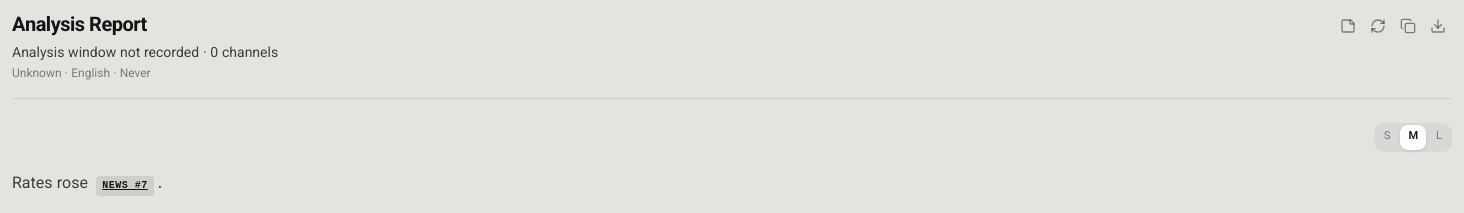
Test case: a Citation in the report › a Post in neither says it was not found
The image size is (1464, 213).
Hover over the link "news #7" at (125, 186), box [96,176,154,196]
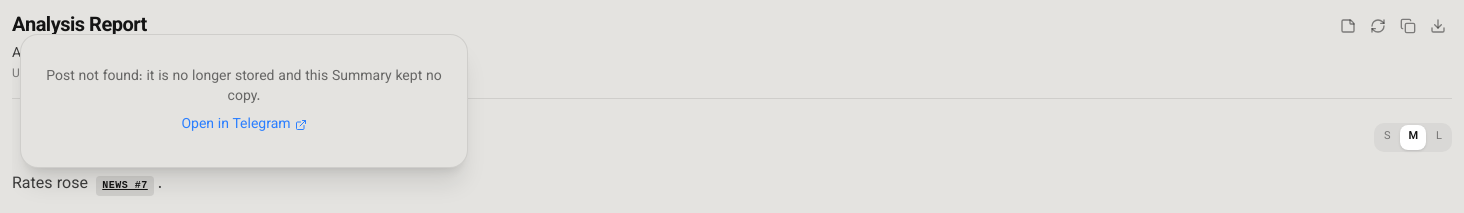
Expected: the text "Post not found" is shown, [46,66,442,108]
